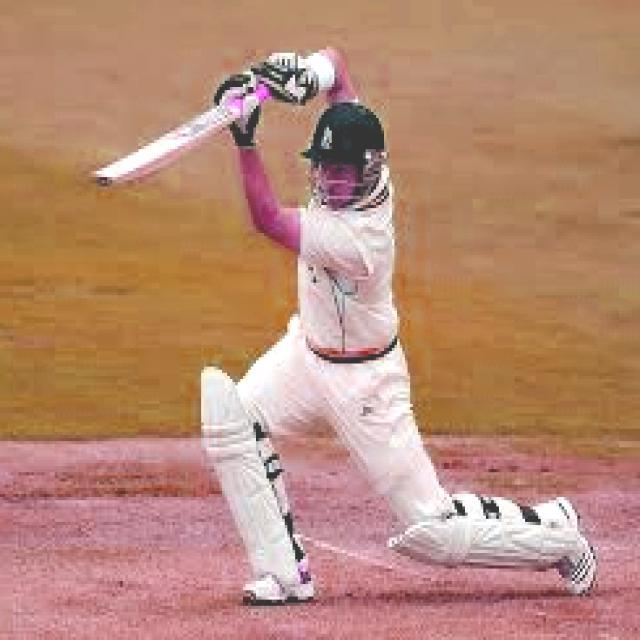bat: (88, 103, 246, 195)
toe: (90, 171, 122, 189)
